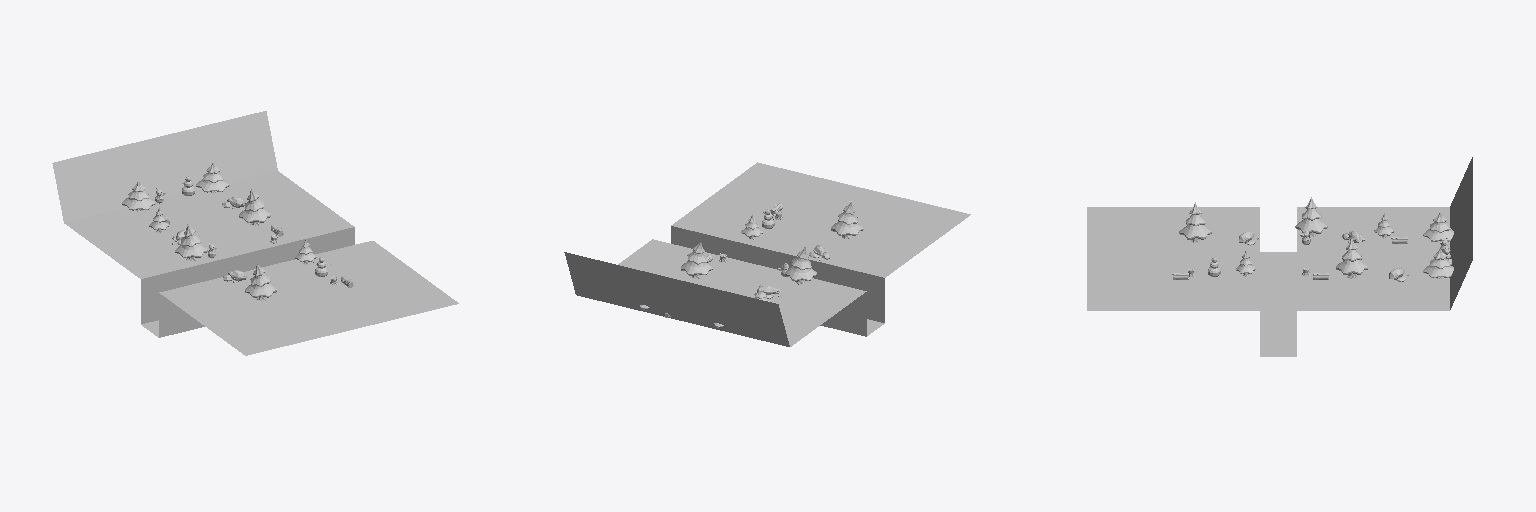
Rendered from escenario_nieve.obj.
The picture shows the model from 3 angles: view 1: azimuth 30°, elevation 25°; view 2: azimuth 150°, elevation 25°; view 3: azimuth 270°, elevation 25°; orthographic projection.
Parts seen in each view (by area): view 1: escenario_nieve suelo_nieve, escenario_nieve pino_ladeado1, escenario_nieve pino_ladeado3, escenario_nieve pino_ladeado2, escenario_nieve pino_ancho1, escenario_nieve pino_ancho2; view 2: escenario_nieve suelo_nieve, escenario_nieve pino_ladeado2, escenario_nieve pino_ladeado3, escenario_nieve pino_ladeado1; view 3: escenario_nieve suelo_nieve, escenario_nieve pino_ladeado1, escenario_nieve pino_ladeado3, escenario_nieve pino_ladeado2, escenario_nieve pino_ancho2, escenario_nieve pino_ancho1.
Boxes of the visible parts, x1,y1,x2,y2 form: escenario_nieve suelo_nieve: [52, 111, 458, 355]; escenario_nieve pino_ladeado1: [239, 189, 270, 225]; escenario_nieve pino_ladeado3: [245, 264, 276, 300]; escenario_nieve pino_ladeado2: [175, 224, 207, 260]; escenario_nieve pino_ancho1: [122, 181, 155, 211]; escenario_nieve pino_ancho2: [196, 163, 229, 192]; escenario_nieve suelo_nieve: [564, 162, 970, 346]; escenario_nieve pino_ladeado2: [785, 247, 816, 284]; escenario_nieve pino_ladeado3: [831, 201, 863, 238]; escenario_nieve pino_ladeado1: [681, 242, 712, 278]; escenario_nieve suelo_nieve: [1087, 157, 1472, 356]; escenario_nieve pino_ladeado1: [1336, 238, 1367, 278]; escenario_nieve pino_ladeado3: [1179, 202, 1211, 243]; escenario_nieve pino_ladeado2: [1295, 197, 1327, 237]; escenario_nieve pino_ancho2: [1423, 249, 1453, 278]; escenario_nieve pino_ancho1: [1423, 212, 1453, 242].
Bounding box in the file's own units: 945 × 410 × 1476.